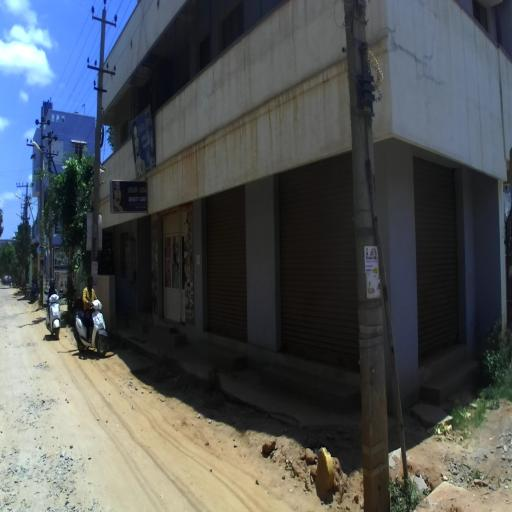street_light_0: (32, 141, 53, 171), (16, 195, 30, 211), (14, 211, 24, 221)
